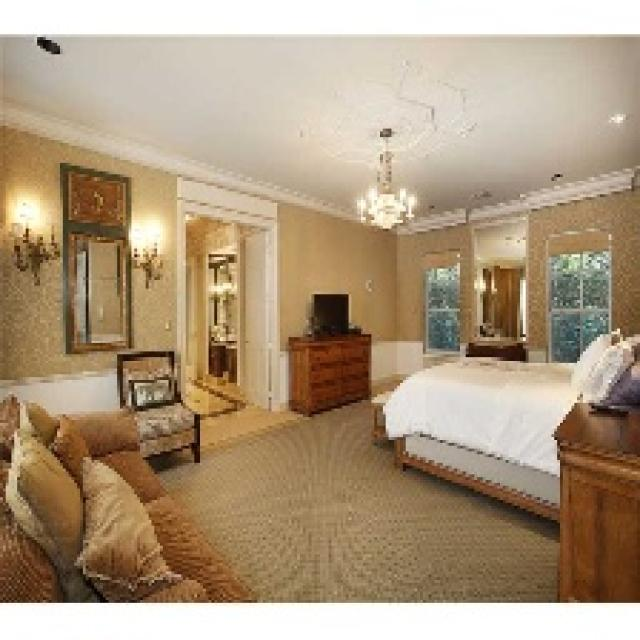Bed: (377, 328, 637, 526)
